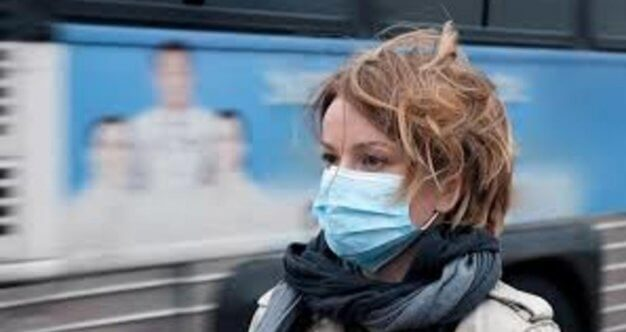Mask: (310, 105, 455, 259)
